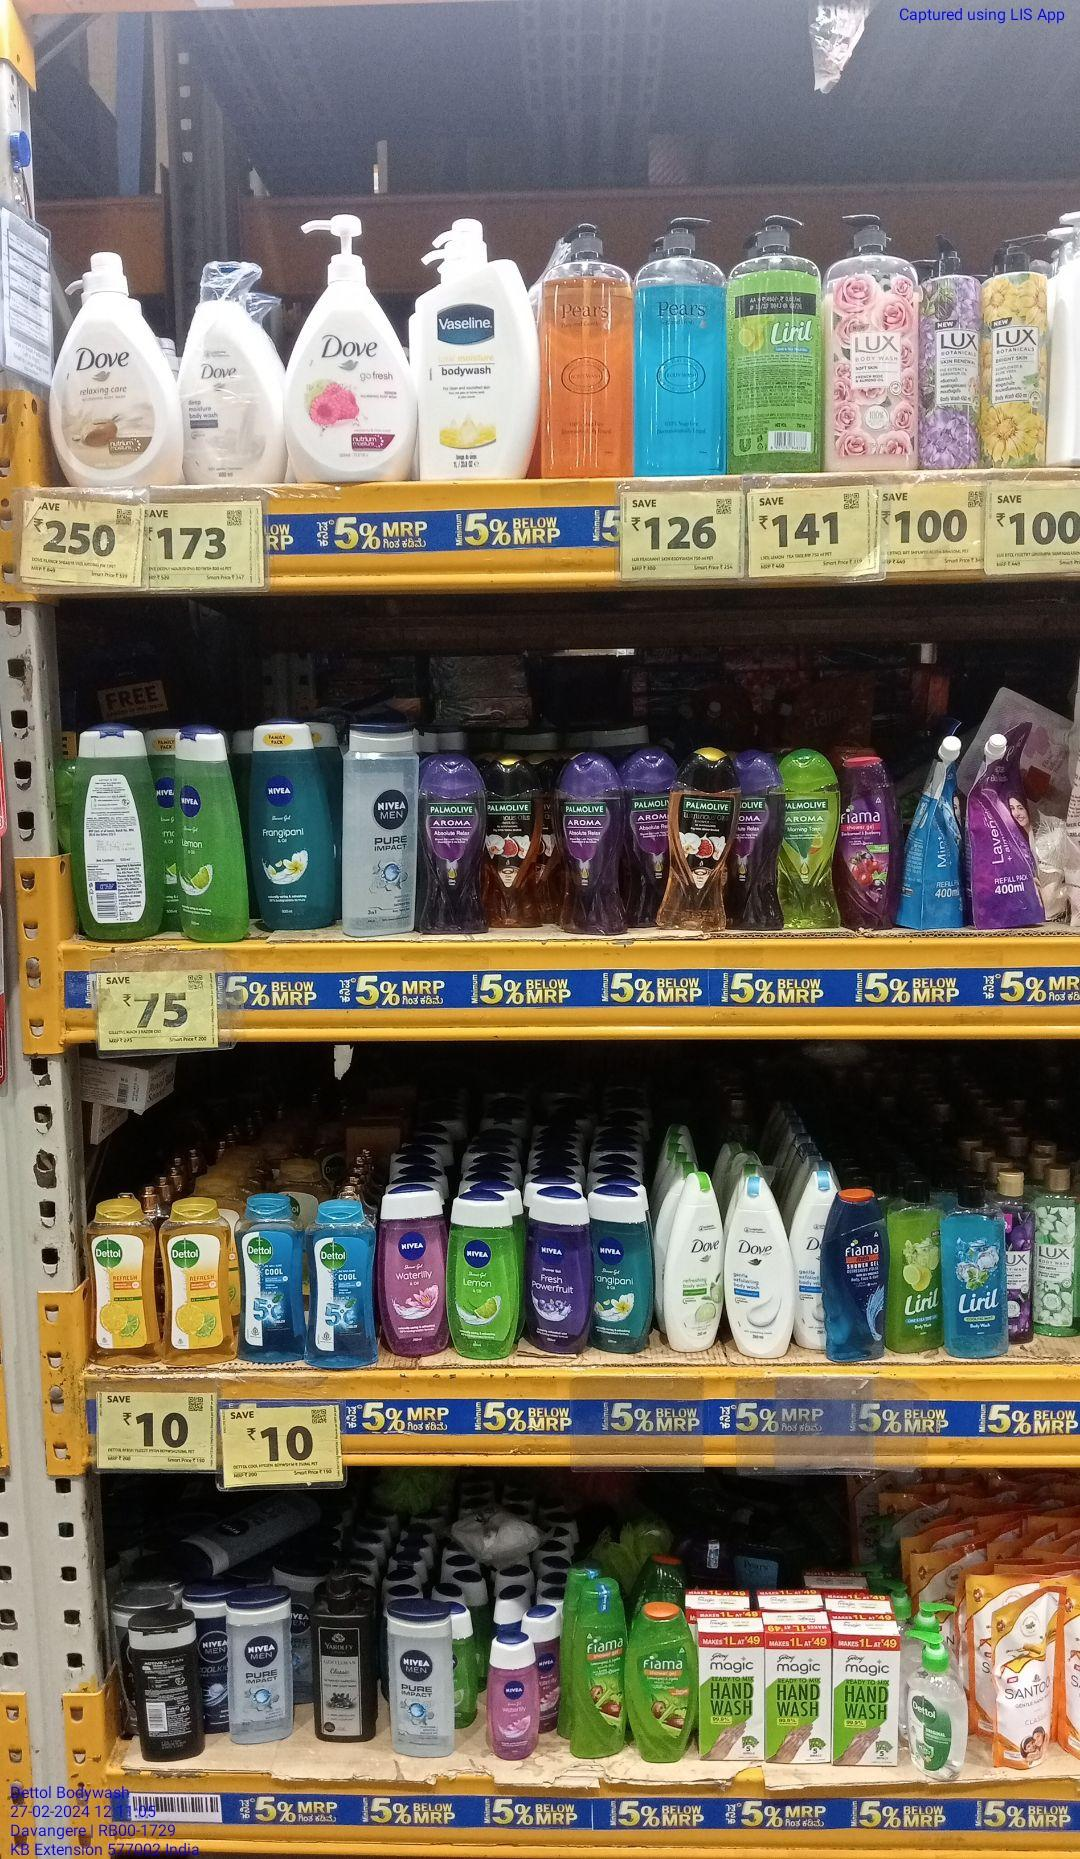Dettol_Bodywash_Cool: (310, 1203, 374, 1372), (238, 1196, 301, 1363)
Dettol_Bodywash_Refresh: (85, 1208, 159, 1369), (162, 1205, 234, 1369)
Dove_Gentle_Exfoliating_Body_Wash_250ML: (729, 1180, 787, 1358)
Dove_Refreshing_Body_Wash_250ML: (667, 1175, 724, 1356)
Fiama_Shower_Gel_Lemongrass_and_Jojoba_250ML: (630, 1603, 692, 1765), (571, 1584, 622, 1764)
Liril_Cooling_Mint_Body_Wash_250ML: (944, 1183, 1004, 1363)
Liril_Lime_and_Tea_Tree_Oil_Body_Wash_250ML: (890, 1180, 941, 1354)
Lux_Black_Orchid_Scent_and_Juniper_Oil_Body_Wash_245ML: (1003, 1171, 1035, 1347)
Lux_Body_Wash_Skin_Detox_Freesia_Scent_and_Alove_Vera_245ML: (1039, 1166, 1080, 1342)
Nivea_Shower_Gel_Frangipani_and_Oil_250ML: (248, 719, 332, 930), (591, 1188, 651, 1356)
Nivea_Shower_Gel_Fresh_Powerfruit_250ML: (523, 1185, 586, 1356)
Nivea_Shower_Gel_Lemon_and_Oil_250ML: (171, 726, 234, 942), (446, 1192, 516, 1361)
Nivea_Shower_Gel_Waterlily_and_Oil_250ML: (379, 1179, 444, 1356), (485, 1637, 540, 1763)
Palmolive_Aroma_Morning_Tonic_Shower_Gel_250ML: (782, 751, 838, 930)
Palmolive_Aroma_Relax_250ML: (417, 756, 485, 940), (559, 752, 620, 938), (734, 755, 779, 933), (624, 746, 666, 932)
Palmolive_Luminous_Oils_With_White_Orchid_Shower_Gel_250ML: (670, 750, 730, 936), (487, 756, 541, 930)
